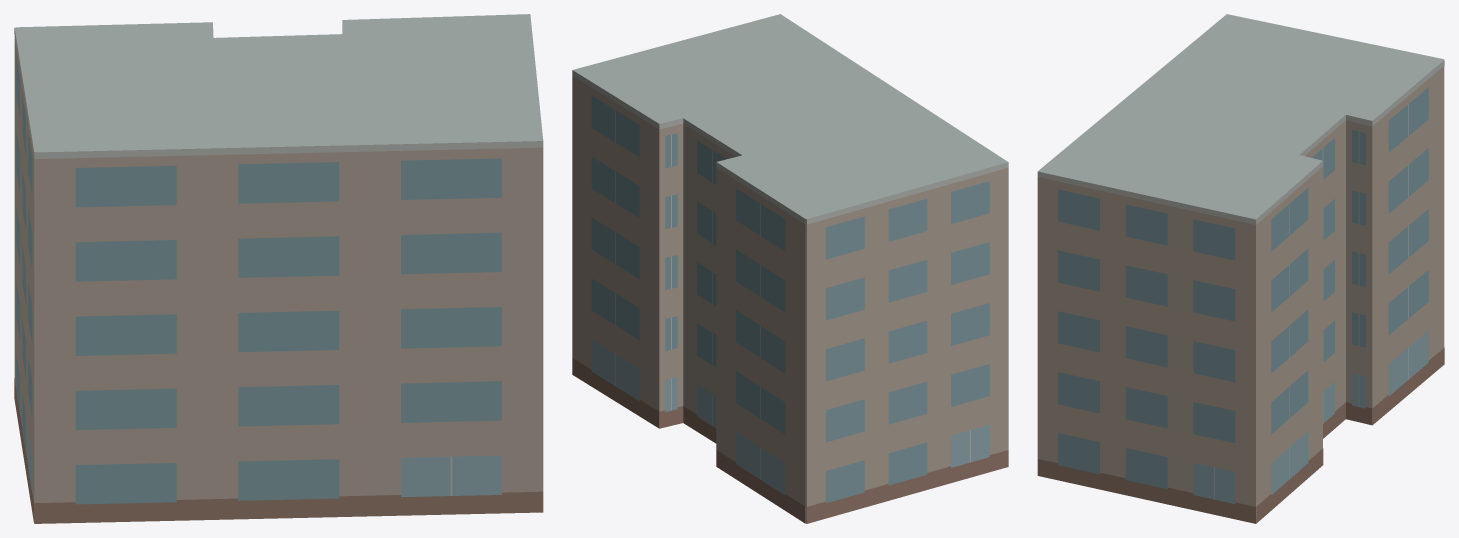
Rendered from survey-upis-33006832.glb.
3 renders of one model, left to right at view 1: azimuth 30°, elevation 25°; view 2: azimuth 150°, elevation 25°; view 3: azimuth 270°, elevation 25°, orthographic. The views are drawn at different scales.
Parts seen in each view (by area): view 1: survey-upis-33006832.tmp; view 2: survey-upis-33006832.tmp; view 3: survey-upis-33006832.tmp.
Boxes of the visible parts, x1=… form: survey-upis-33006832.tmp: x1=14, y1=14, x2=543, y2=523; survey-upis-33006832.tmp: x1=572, y1=14, x2=1008, y2=523; survey-upis-33006832.tmp: x1=1037, y1=14, x2=1444, y2=523.
Bounding box in the file's own units: 19.7 × 13.6 × 16.48.
